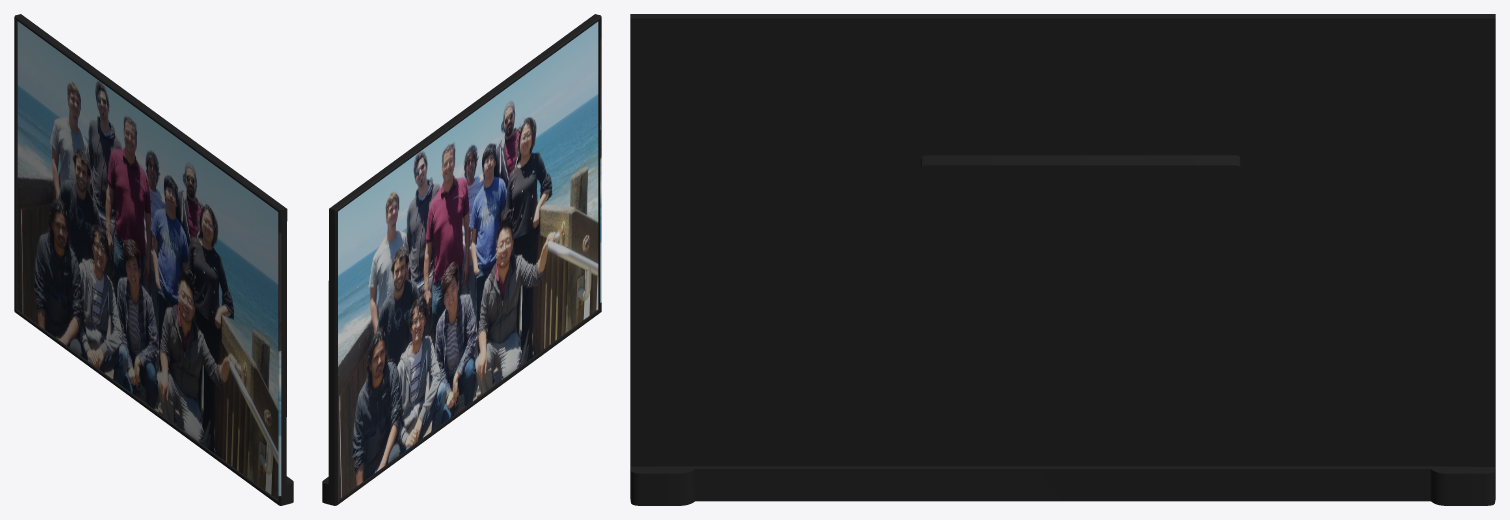
Rendered from aws_TV_01_visual.DAE.
3 views of the same model, side by side, from view 1: azimuth 30°, elevation 25°; view 2: azimuth 150°, elevation 25°; view 3: azimuth 270°, elevation 25° (orthographic). The views are drawn at different scales.
Visible parts, largest first — view 1: aws_TV_01_visual; view 2: aws_TV_01_visual; view 3: aws_TV_01_visual.
Boxes of the visible parts, left/top/right/bottom form: aws_TV_01_visual: left=14, top=14, right=293, bottom=505; aws_TV_01_visual: left=322, top=14, right=601, bottom=505; aws_TV_01_visual: left=630, top=14, right=1495, bottom=505.
Size of the model in its own units: 5.5 by 130 by 79.54.
1 material, 1 textured.
